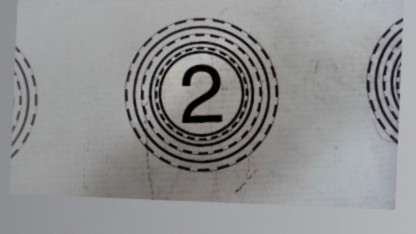2r: (119, 14, 284, 175)
